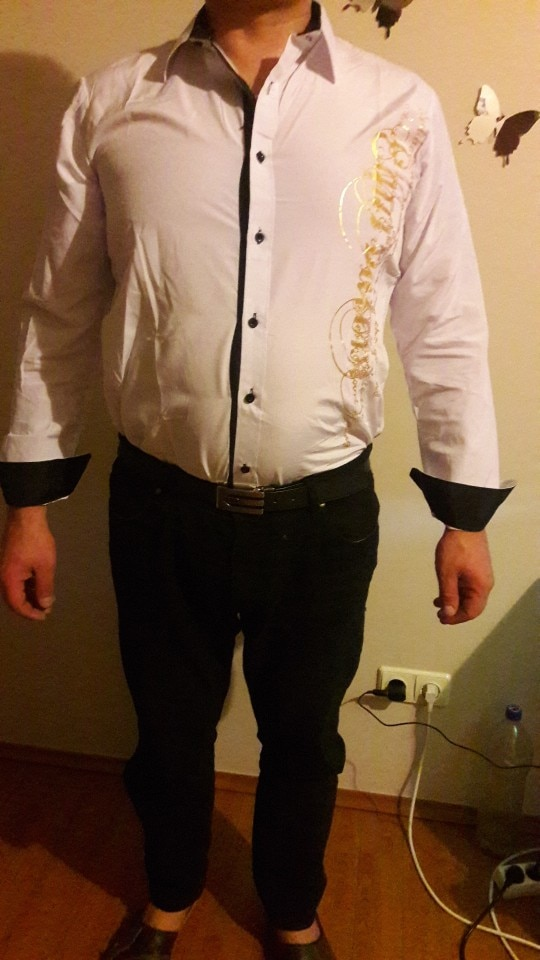shirts: (9, 14, 509, 536)
